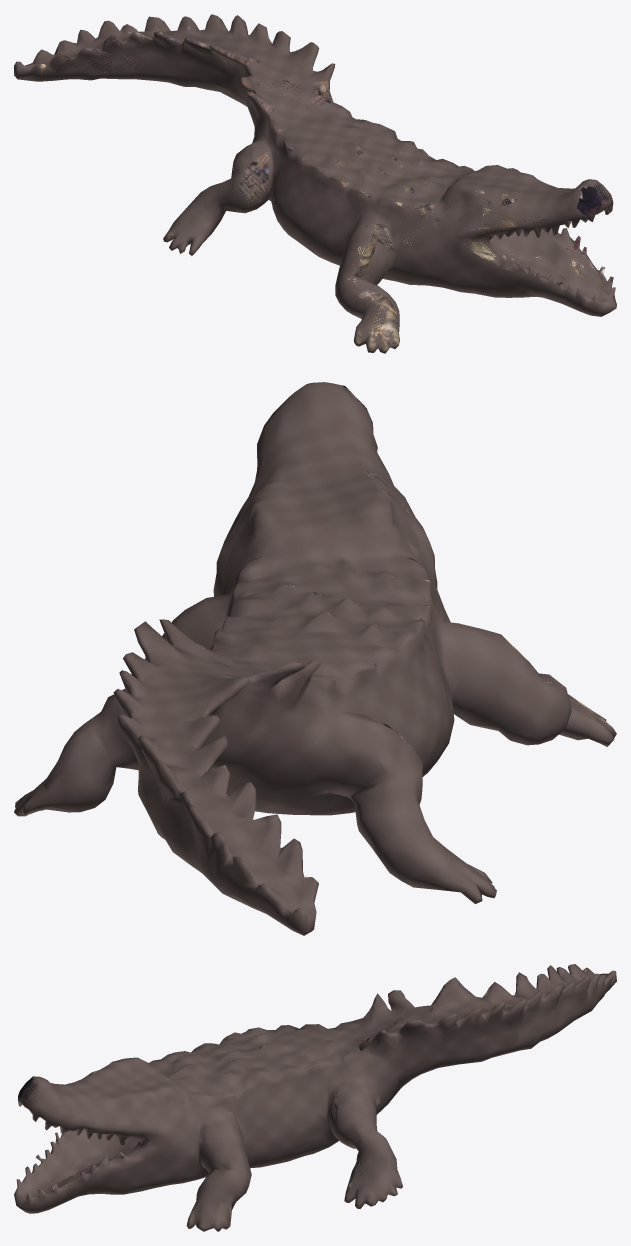
3 renders of one model, top to bottom at view 1: azimuth 30°, elevation 25°; view 2: azimuth 150°, elevation 25°; view 3: azimuth 270°, elevation 25°, orthographic. The views are drawn at different scales.
Visible parts, largest first — view 1: geometry_0; view 2: geometry_0; view 3: geometry_0.
Boxes of the visible parts, box(x1,y1,x2,y2) form: geometry_0: box(14, 14, 616, 353); geometry_0: box(14, 382, 616, 935); geometry_0: box(14, 964, 616, 1231).
Bounding box in the file's own units: 4.02 × 2.01 × 6.72.
1 material, 1 textured.
